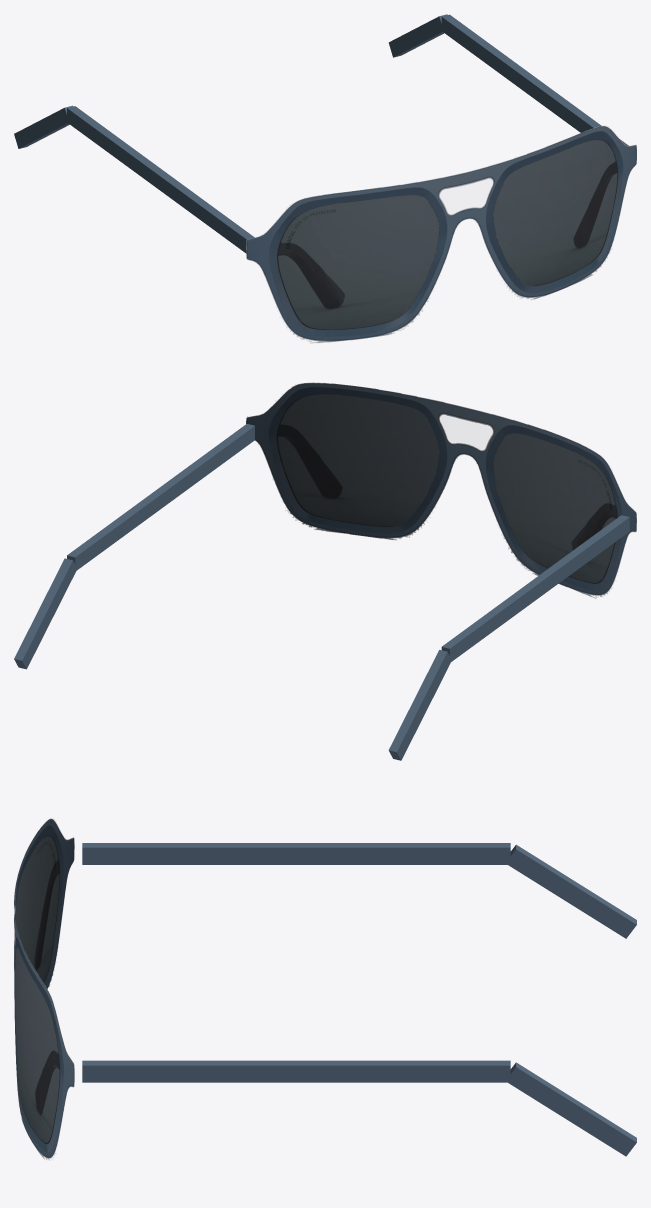
3 renders of one model, top to bottom at view 1: azimuth 30°, elevation 25°; view 2: azimuth 150°, elevation 25°; view 3: azimuth 270°, elevation 25°, orthographic. The views are drawn at different scales.
Parts seen in each view (by area): view 1: anteojo; view 2: anteojo; view 3: anteojo.
Part boxes in pixels (x1,y1,x2,y2): anteojo: [14, 14, 636, 343]; anteojo: [14, 382, 636, 760]; anteojo: [14, 818, 636, 1160].
Size of the model in its own units: 0.142 by 0.0517 by 0.1644.
Materials: 2 (1 with a texture image).
